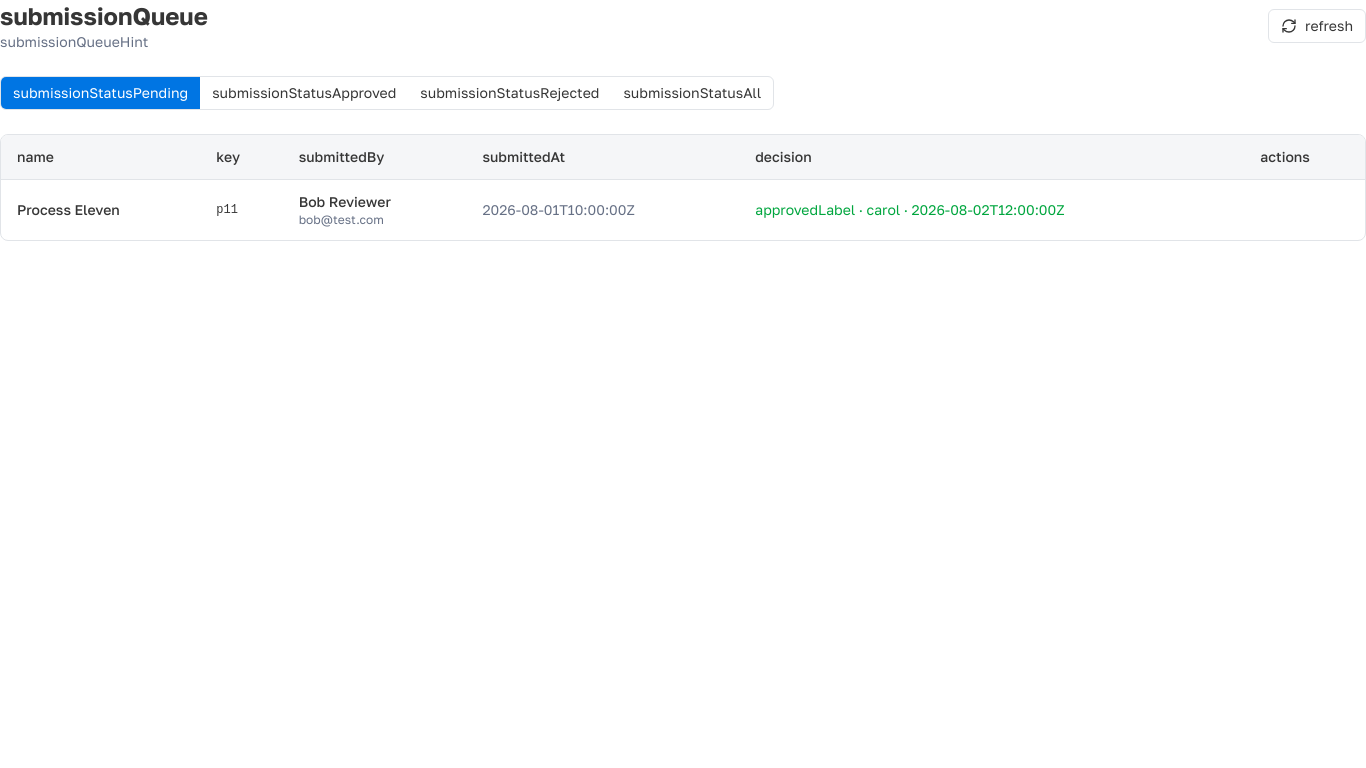
Scenario: SubmissionQueue (WO-ACL-15 criteria 9-12) › criterion 11: the model preview opens from a REVIEWED row, not only from pending ones
Click the row that starts with "Process Eleven" at (683, 210), box [1,180,1365,240]
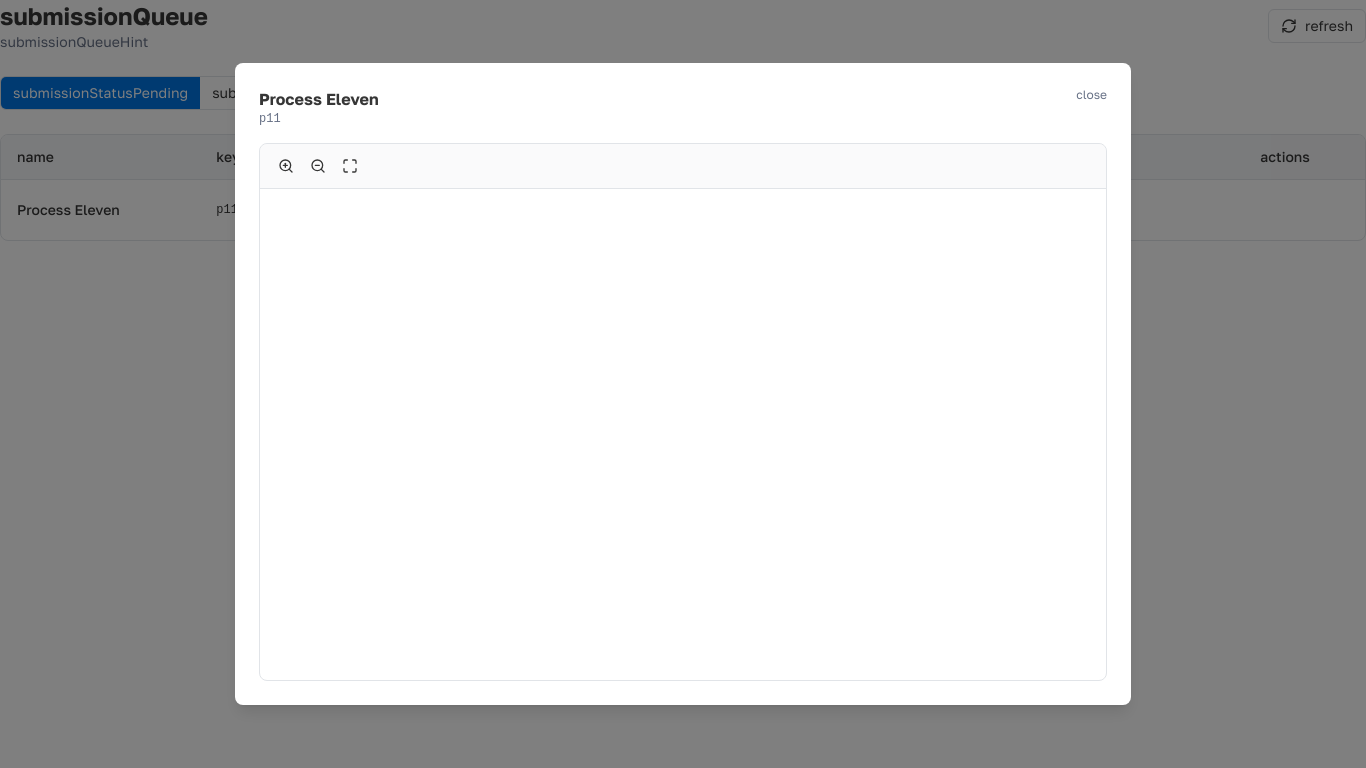
Check: the element with class "inset-0" is shown
